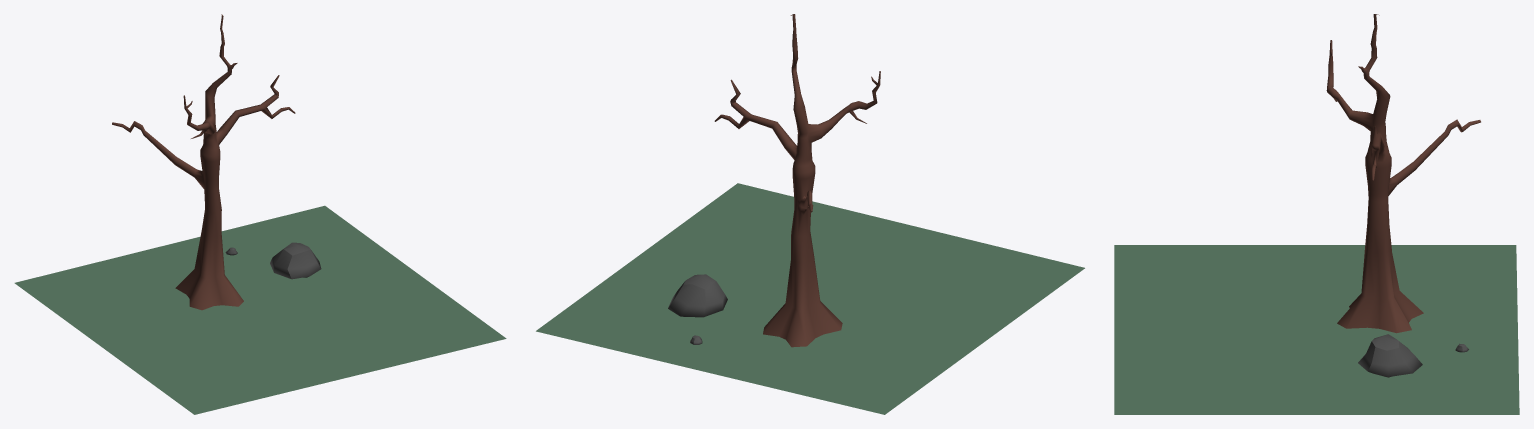
Rendered from pussel1_5.fbx.
The picture shows the model from 3 angles, left to right: view 1: azimuth 30°, elevation 25°; view 2: azimuth 150°, elevation 25°; view 3: azimuth 270°, elevation 25°; orthographic projection. The views are drawn at different scales.
Parts seen in each view (by area): view 1: ground, tree, stone1; view 2: ground, tree, stone1; view 3: ground, tree, stone1.
Part boxes in pixels (<box>): ground: <box>14,205,506,414</box>; tree: <box>112,14,295,310</box>; stone1: <box>270,242,321,279</box>; ground: <box>536,183,1084,414</box>; tree: <box>714,14,880,347</box>; stone1: <box>668,274,727,317</box>; ground: <box>1114,245,1519,414</box>; tree: <box>1326,14,1480,333</box>; stone1: <box>1358,334,1422,377</box>.
Size of what is drawn, in the model's own units: 25 by 21.56 by 25.21.
